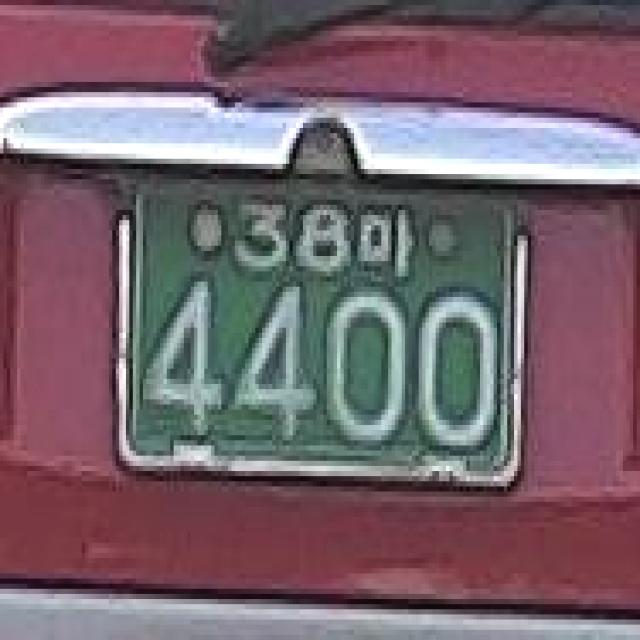illegal_plate: (99, 145, 542, 507)
